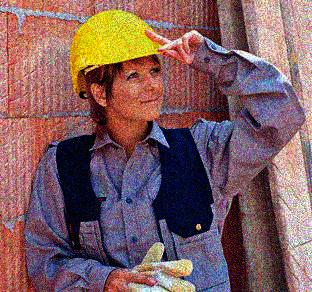helmet: (70, 10, 169, 119)
